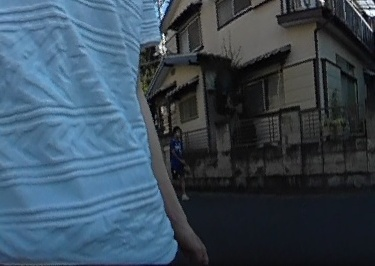person: (168, 124, 190, 198)
